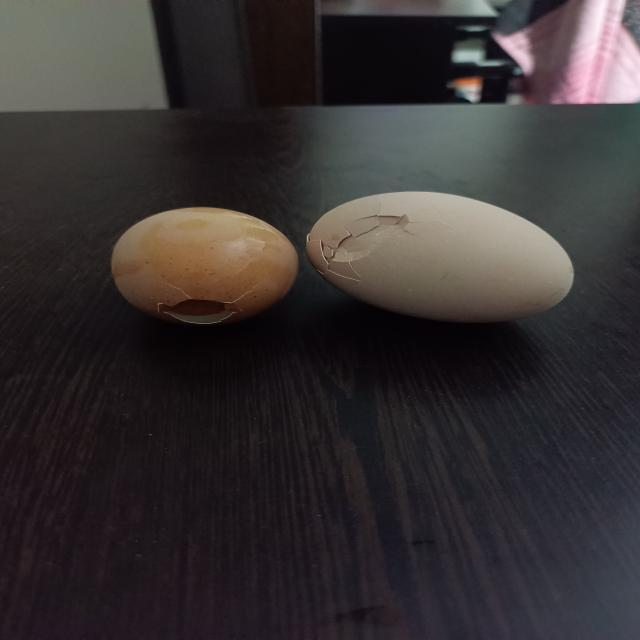biodegradable: (307, 188, 577, 326), (108, 206, 303, 326)
